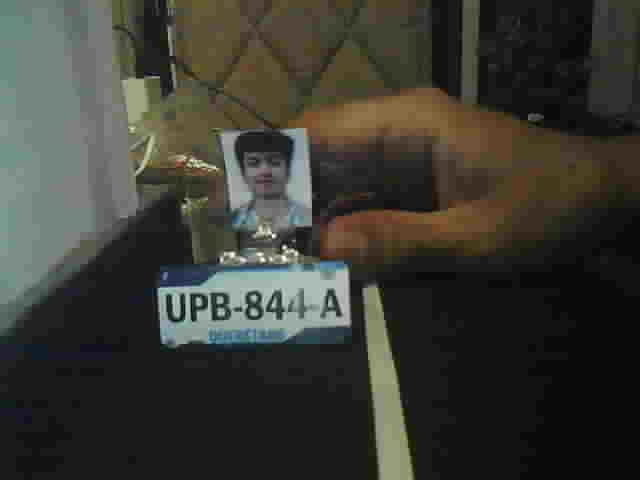PLACA: (154, 260, 358, 351)
ROSTRO: (229, 130, 313, 230)
